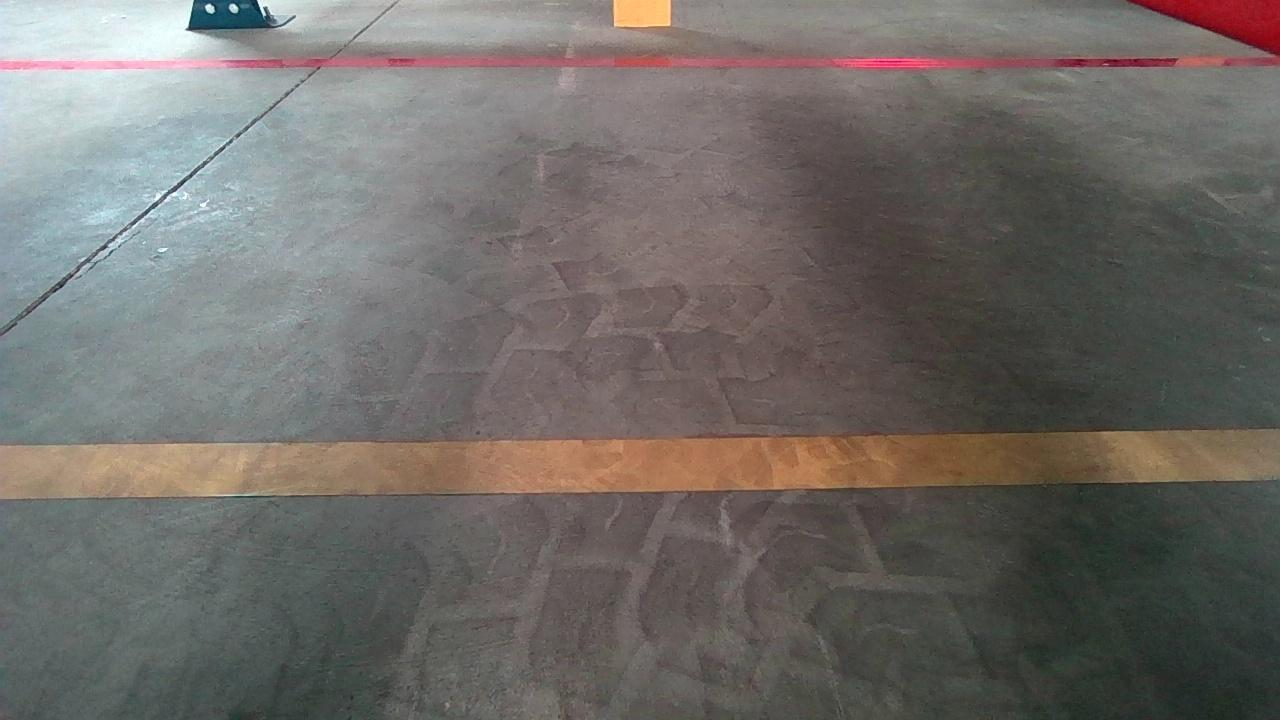orange_strip: (611, 0, 674, 28)
red_line: (3, 54, 1278, 72)
yellow_line: (0, 426, 1274, 500)
